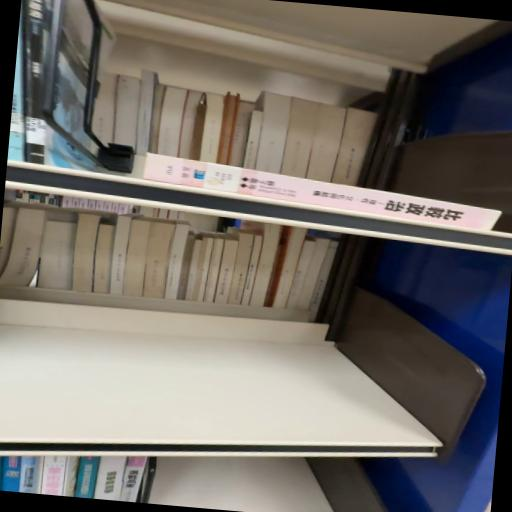flat: (144, 154, 501, 231)
